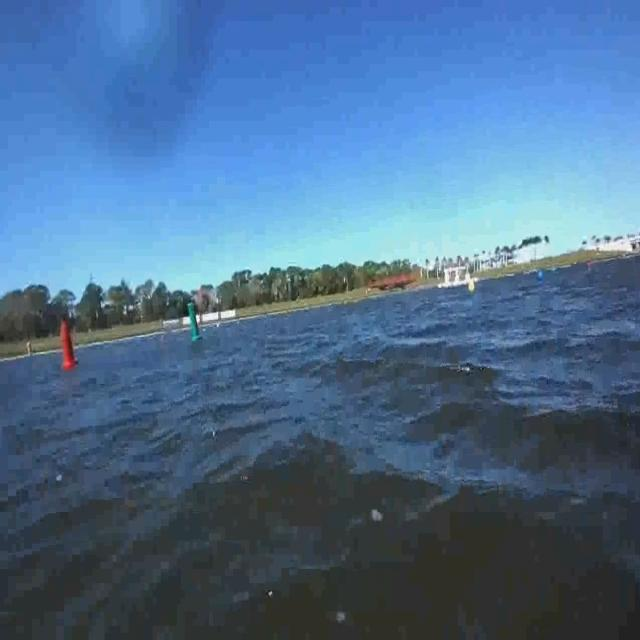green-column-buoy: (185, 296, 204, 344)
red-column-buoy: (60, 316, 75, 382)
